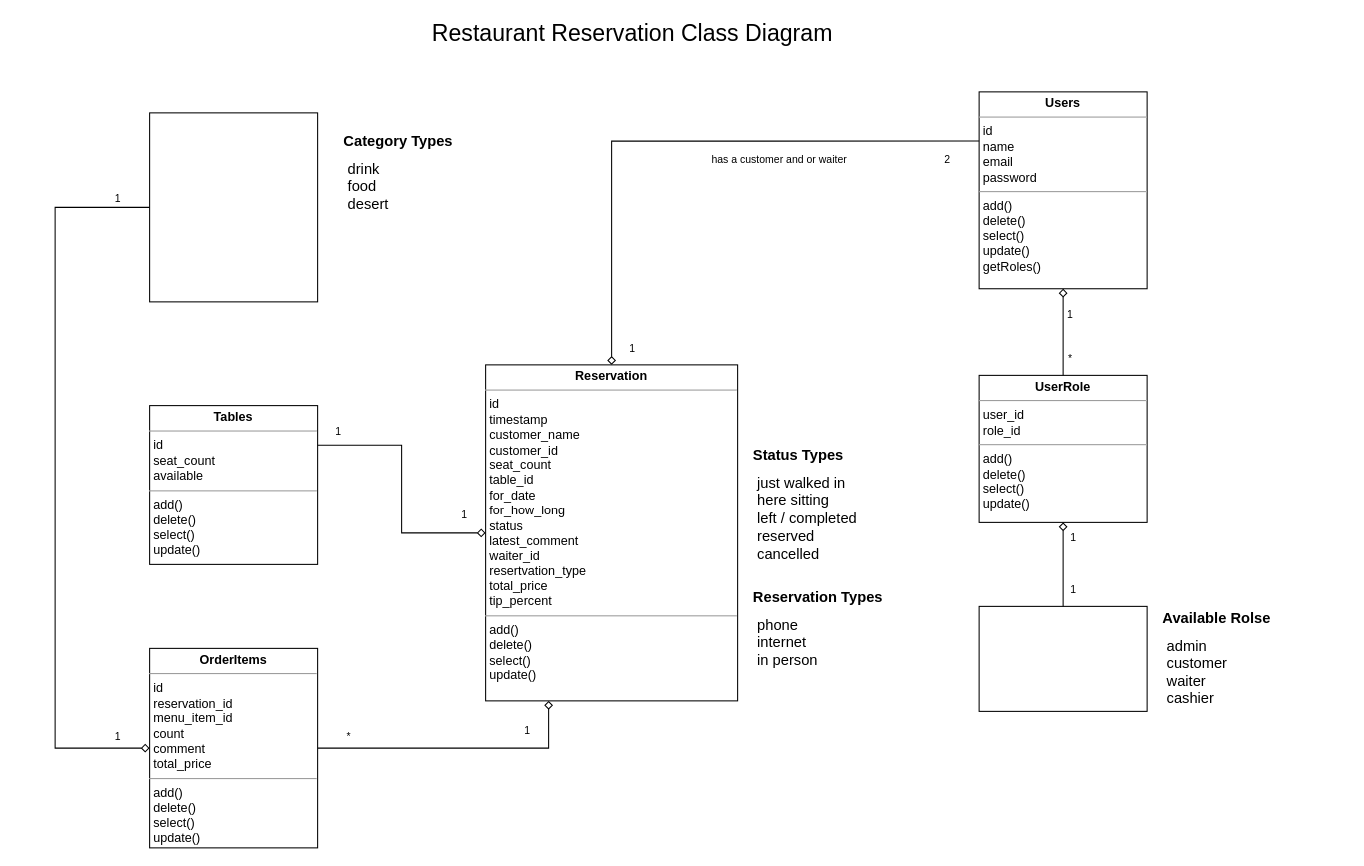
The diagram is 1364 pixels wide and 866 high, and some of its shapes have lost their labels. The box of each missing label's shape, as (x1, y1, x2, y2) in pixels:
MenuItems id name category price description add() delete() select() update(): (149, 112, 318, 302)
Roles id name select(): (978, 605, 1147, 711)
